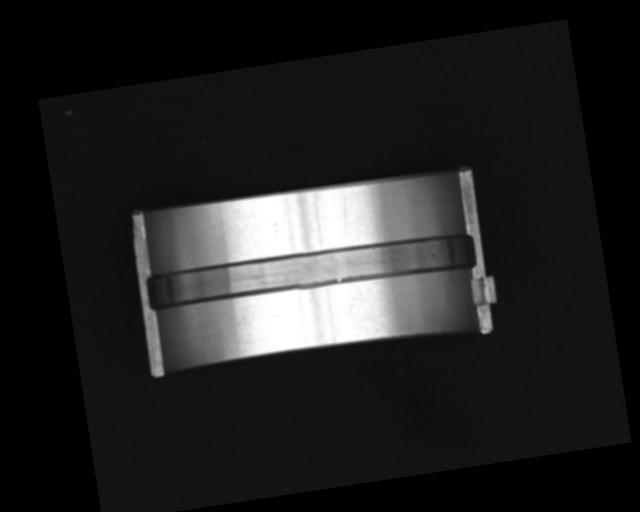gap: (142, 225, 476, 317)
nick: (338, 196, 351, 229)
